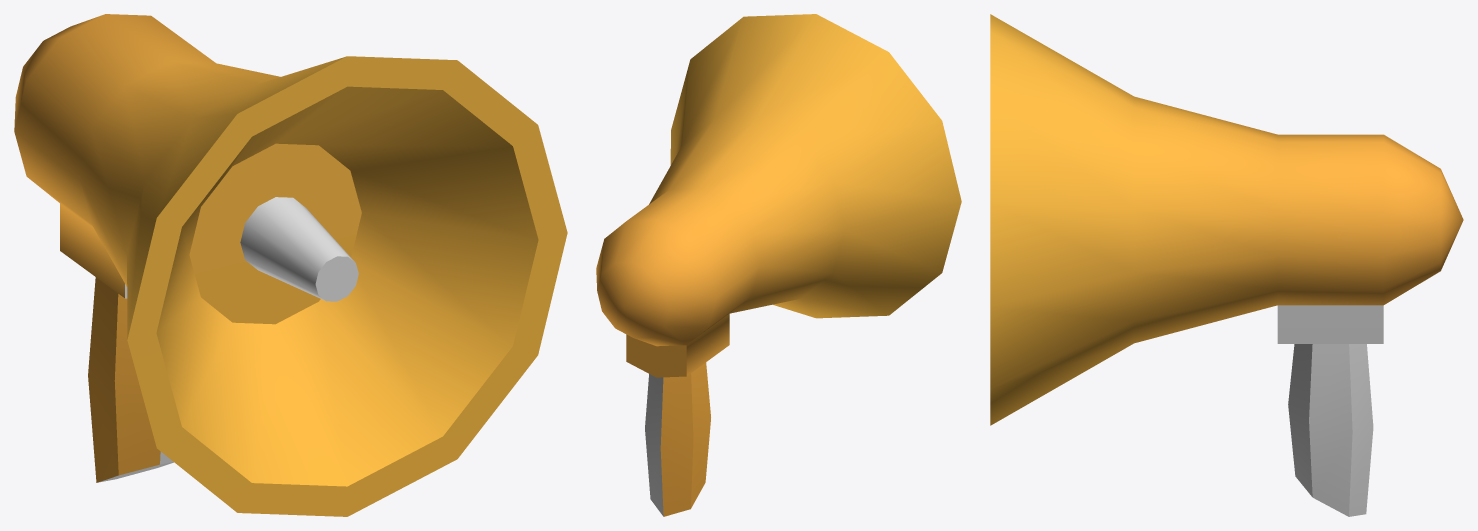
Rendered from Megaphone_C.fbx.
The picture shows the model from 3 angles, left to right: view 1: azimuth 30°, elevation 25°; view 2: azimuth 150°, elevation 25°; view 3: azimuth 270°, elevation 25°; orthographic projection. The views are drawn at different scales.
Visible parts, largest first — view 1: Megaphone_C; view 2: Megaphone_C; view 3: Megaphone_C.
Part boxes in pixels (x1=…): Megaphone_C: x1=14, y1=14, x2=567, y2=516; Megaphone_C: x1=596, y1=14, x2=961, y2=516; Megaphone_C: x1=990, y1=14, x2=1463, y2=516.
Bounding box in the file's own units: 40.66 × 52.25 × 46.55.
